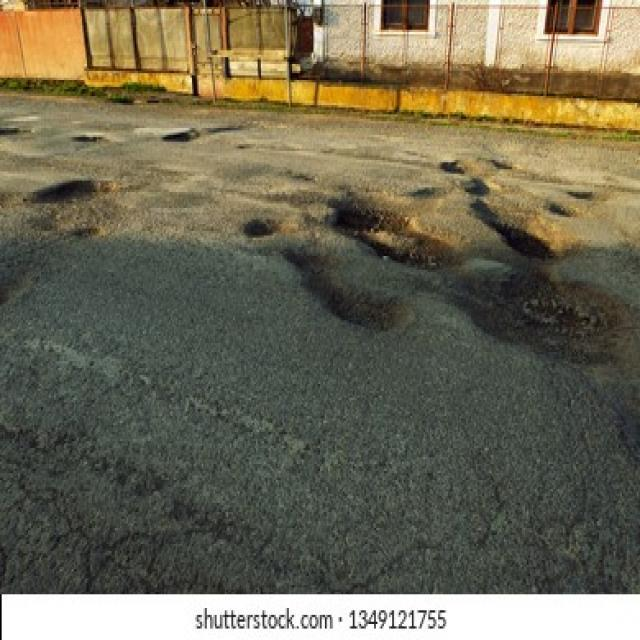Pothole: (453, 270, 624, 372), (282, 235, 409, 336), (491, 212, 563, 268), (29, 178, 115, 208), (0, 253, 34, 313), (243, 215, 299, 238), (0, 185, 28, 226), (466, 176, 494, 196), (546, 201, 573, 220), (73, 224, 104, 240), (71, 132, 105, 144), (442, 160, 464, 176), (492, 158, 514, 172), (568, 190, 592, 202), (292, 174, 315, 183)
